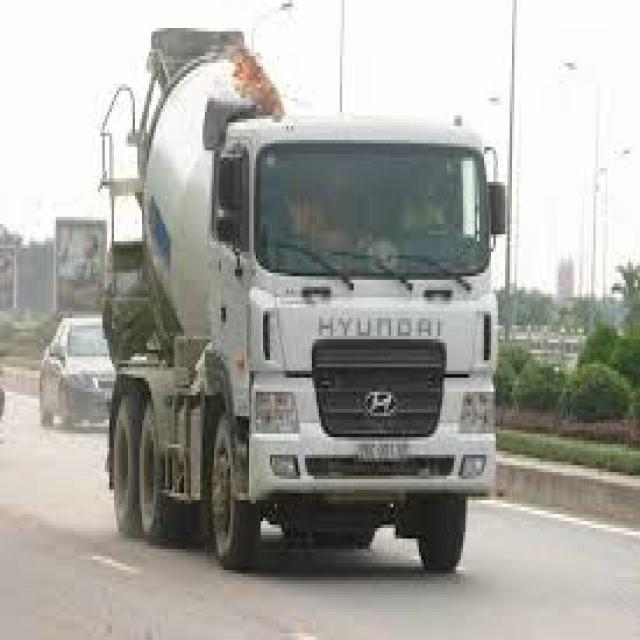Mixer Truck: (92, 23, 506, 574)
